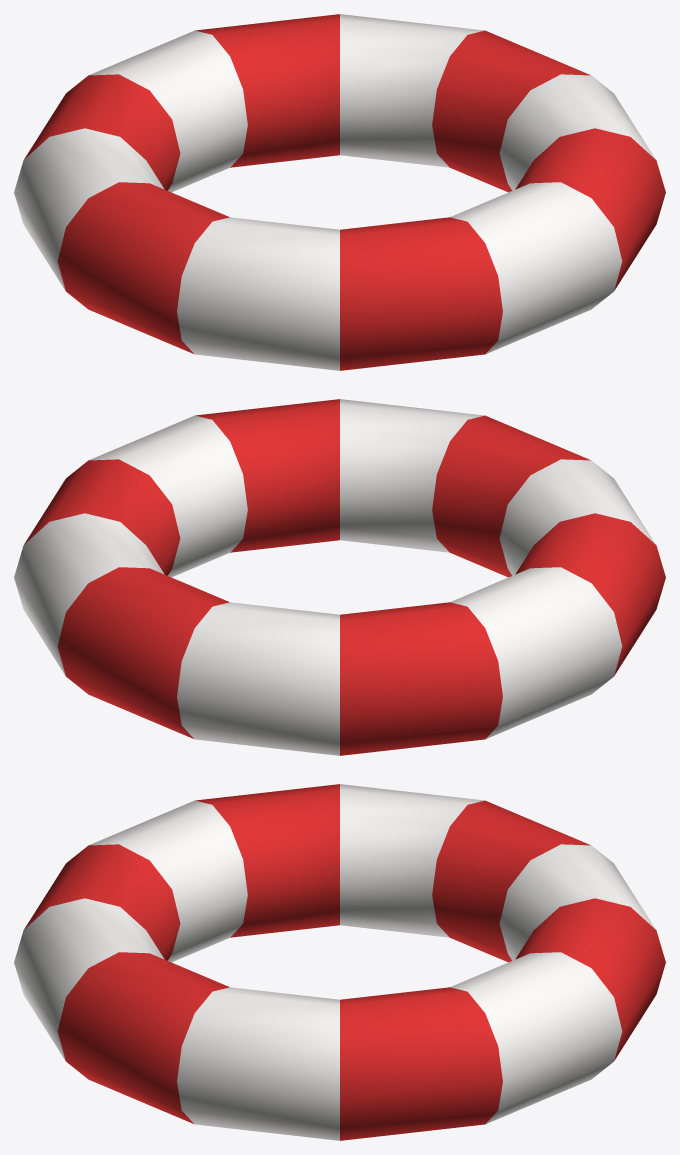
Rendered from Isl_11_Lifebuoy.fbx.
3 views of the same model, one above another, from view 1: azimuth 30°, elevation 25°; view 2: azimuth 150°, elevation 25°; view 3: azimuth 270°, elevation 25° (orthographic).
Parts seen in each view (by area): view 1: Isl_11_Lifebuoy; view 2: Isl_11_Lifebuoy; view 3: Isl_11_Lifebuoy.
Part boxes in pixels (x1,y1,x2,y2): Isl_11_Lifebuoy: [14, 14, 665, 370]; Isl_11_Lifebuoy: [14, 399, 665, 755]; Isl_11_Lifebuoy: [14, 784, 665, 1140].
Bounding box in the file's own units: 115 × 115 × 24.95.
1 material, 1 textured.
